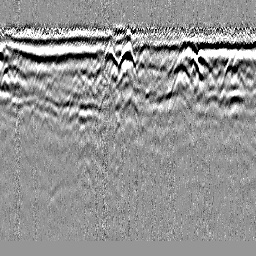cavity: (117, 39, 138, 75)
